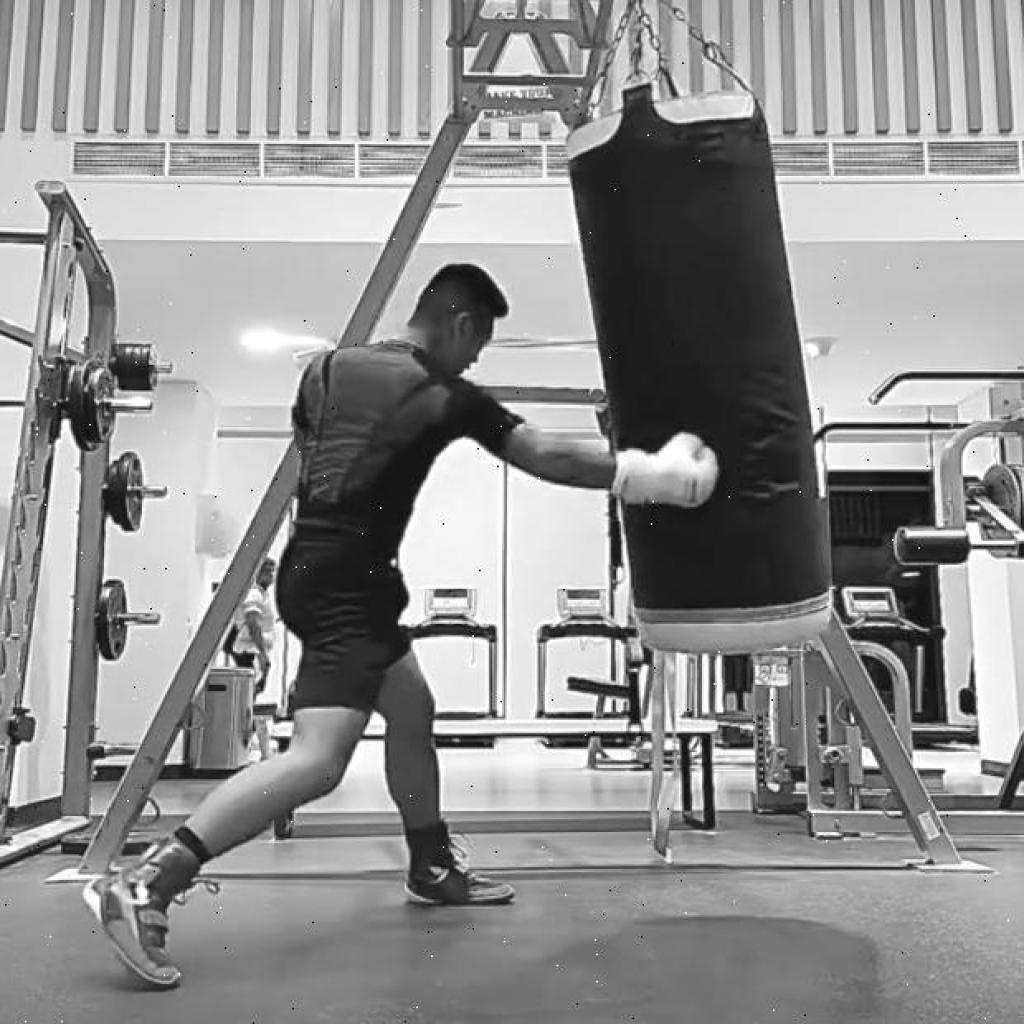bag: (558, 74, 838, 650)
uppercut: (88, 261, 724, 992)
